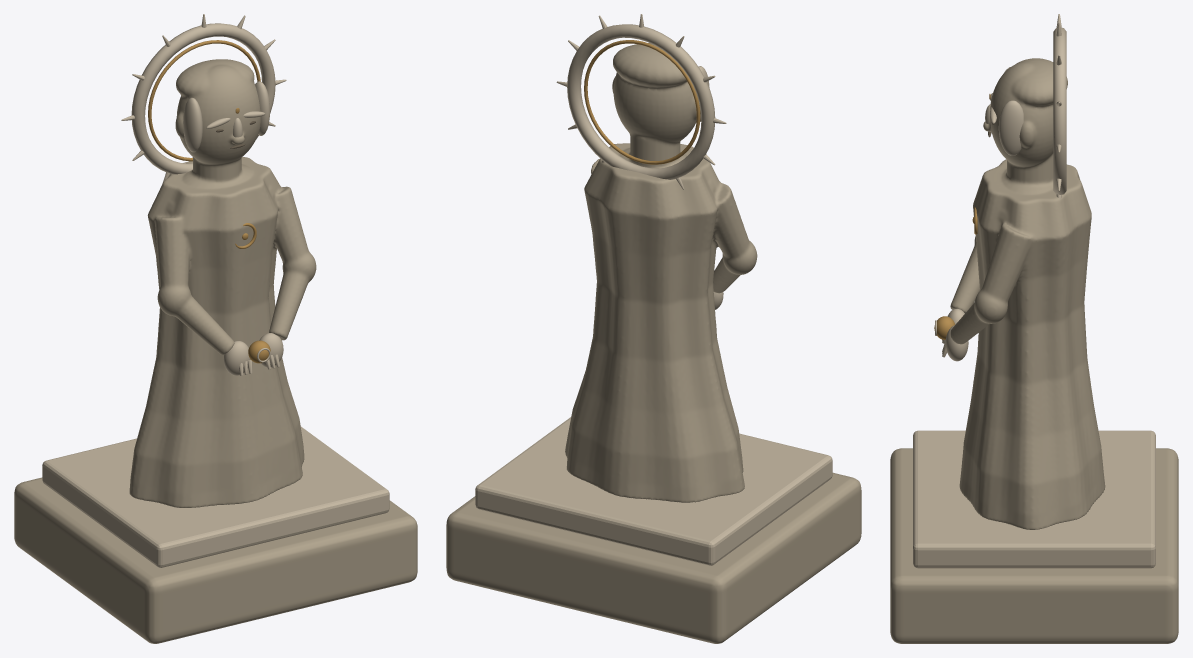
File: estatua_divindade.glb
3 views of the same model, side by side, from view 1: azimuth 30°, elevation 25°; view 2: azimuth 150°, elevation 25°; view 3: azimuth 270°, elevation 25° (orthographic). The views are drawn at different scales.
Visible parts, largest first — view 1: Temple deity statue - Aged warm limestone, Temple deity statue - Worn carved limestone edges, Temple deity statue - Muted votive gold; view 2: Temple deity statue - Aged warm limestone, Temple deity statue - Worn carved limestone edges, Temple deity statue - Muted votive gold; view 3: Temple deity statue - Aged warm limestone, Temple deity statue - Worn carved limestone edges, Temple deity statue - Muted votive gold.
Boxes of the visible parts, left/top/right/bottom form: Temple deity statue - Aged warm limestone: left=14, top=59, right=417, bottom=643; Temple deity statue - Worn carved limestone edges: left=42, top=14, right=389, bottom=567; Temple deity statue - Muted votive gold: left=148, top=40, right=270, bottom=363; Temple deity statue - Aged warm limestone: left=446, top=43, right=861, bottom=643; Temple deity statue - Worn carved limestone edges: left=475, top=14, right=832, bottom=565; Temple deity statue - Muted votive gold: left=584, top=40, right=700, bottom=164; Temple deity statue - Aged warm limestone: left=890, top=58, right=1178, bottom=643; Temple deity statue - Worn carved limestone edges: left=913, top=14, right=1155, bottom=568; Temple deity statue - Muted votive gold: left=934, top=94, right=990, bottom=339.
Bounding box in the file's own units: 0.78 × 1.49 × 0.7.
